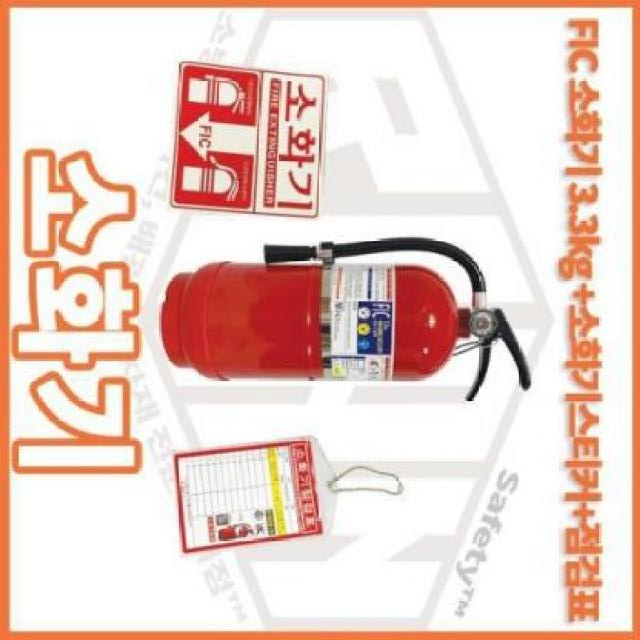fire extinguisher: (160, 235, 532, 401)
